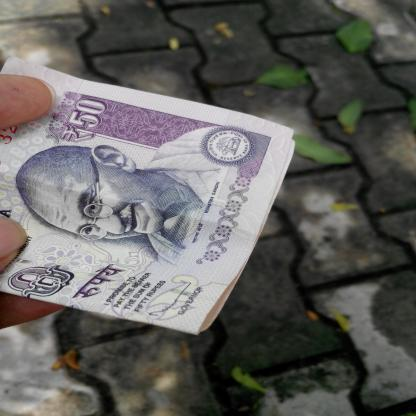Old50Front: (0, 55, 298, 336)
